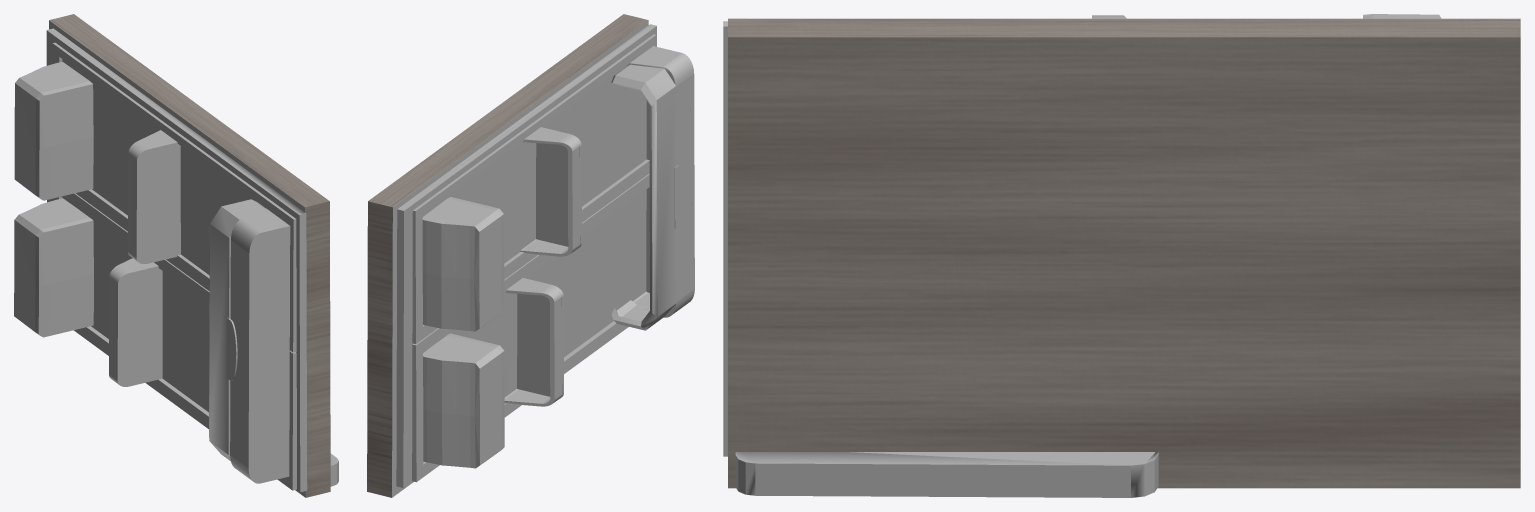
File: top_door.glb
3 views of the same model, side by side, from view 1: azimuth 30°, elevation 25°; view 2: azimuth 150°, elevation 25°; view 3: azimuth 270°, elevation 25° (orthographic). The views are drawn at different scales.
Visible parts, largest first — view 1: frl_apartment_refrigerator_door_01; view 2: frl_apartment_refrigerator_door_01; view 3: frl_apartment_refrigerator_door_01.
Part boxes in pixels (box(x1,y1,x2,y2)): frl_apartment_refrigerator_door_01: box(14, 14, 338, 497); frl_apartment_refrigerator_door_01: box(367, 14, 694, 497); frl_apartment_refrigerator_door_01: box(723, 14, 1520, 497).
Size of the model in its own units: 0.264 by 0.6954 by 1.12.
Materials: 1 (1 with a texture image).
